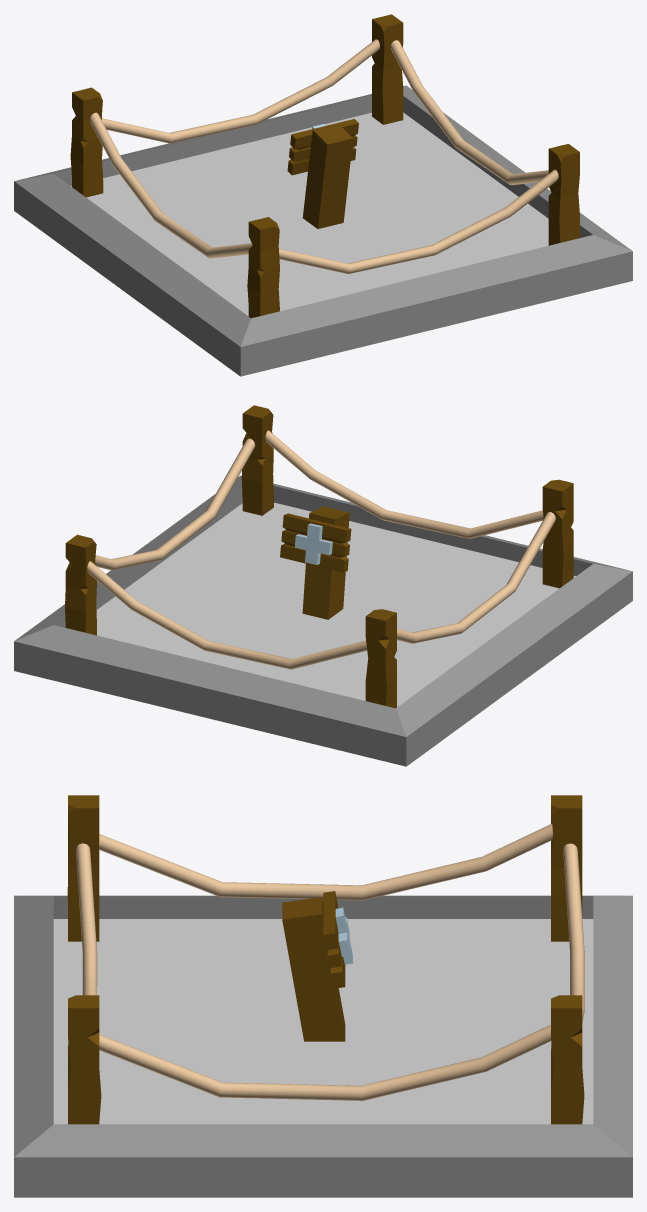
Rendered from Bauplatz.fbx.
3 views of the same model, one above another, from view 1: azimuth 30°, elevation 25°; view 2: azimuth 150°, elevation 25°; view 3: azimuth 270°, elevation 25° (orthographic). The views are drawn at different scales.
Parts seen in each view (by area): view 1: BézierCurve.002; view 2: BézierCurve.002; view 3: BézierCurve.002.
Part boxes in pixels (<box>): BézierCurve.002: <box>14,14,632,376</box>; BézierCurve.002: <box>14,405,632,766</box>; BézierCurve.002: <box>14,795,632,1197</box>.
Size of the model in its own units: 338 by 101 by 338.
